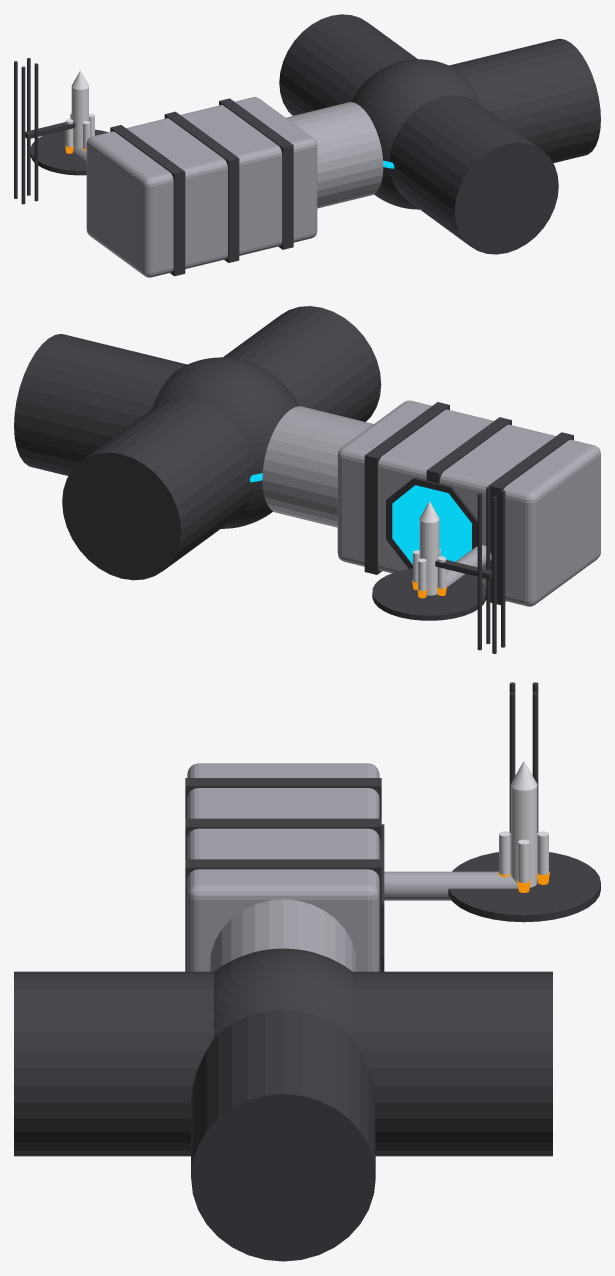
Rendered from Unified_Station.glb.
3 views of the same model, one above another, from view 1: azimuth 30°, elevation 25°; view 2: azimuth 150°, elevation 25°; view 3: azimuth 270°, elevation 25° (orthographic). The views are drawn at different scales.
Parts seen in each view (by area): view 1: Cube, Cylinder.001, Cylinder, Cylinder.002, Cylinder.003, Sphere, Cube.003, Cube.002, Cube.001, Cylinder.007, Cylinder.008, Cylinder.013 (+4 smaller); view 2: Cube, Cylinder.002, Cylinder, Cylinder.001, Cylinder.003, Sphere, Cylinder.006, Cylinder.007, Cube.001, Cube.003, Cylinder.005, Cylinder.008 (+7 smaller); view 3: Cylinder, Cylinder.002, Cylinder.001, Cube, Sphere, Cylinder.003, Cylinder.007, Cylinder.004, Cube.001, Cube.002, Cube.003, Cylinder.008.
Boxes of the visible parts, x1,y1,x2,y2 form: Cube: [86, 97, 317, 277]; Cylinder.001: [389, 95, 558, 254]; Cylinder: [449, 38, 600, 163]; Cylinder.002: [279, 14, 417, 115]; Cylinder.003: [286, 102, 383, 208]; Sphere: [351, 59, 480, 209]; Cube.003: [110, 125, 185, 276]; Cube.002: [164, 111, 239, 262]; Cube.001: [219, 98, 293, 249]; Cylinder.007: [30, 129, 107, 175]; Cylinder.008: [71, 87, 88, 150]; Cylinder.013: [21, 66, 25, 204]; Cube: [337, 400, 600, 606]; Cylinder.002: [62, 398, 255, 580]; Cylinder: [14, 334, 186, 475]; Cylinder.001: [223, 306, 381, 421]; Cylinder.003: [262, 406, 373, 527]; Sphere: [152, 357, 298, 528]; Cylinder.006: [392, 485, 471, 564]; Cylinder.007: [372, 568, 486, 620]; Cube.001: [364, 402, 449, 574]; Cube.003: [488, 432, 573, 604]; Cylinder.005: [386, 477, 477, 568]; Cylinder.008: [419, 519, 439, 595]; Cylinder: [191, 1009, 375, 1261]; Cylinder.002: [352, 971, 552, 1156]; Cylinder.001: [14, 971, 214, 1156]; Cube: [187, 763, 379, 971]; Sphere: [213, 948, 353, 1038]; Cylinder.003: [209, 899, 357, 971]; Cylinder.007: [448, 852, 600, 922]; Cylinder.004: [384, 871, 518, 900]; Cube.001: [185, 859, 381, 971]; Cube.002: [185, 818, 381, 859]; Cube.003: [185, 778, 381, 818]; Cylinder.008: [510, 786, 537, 887].
Size of the model in its own units: 58.62 by 18.76 by 40.87.
